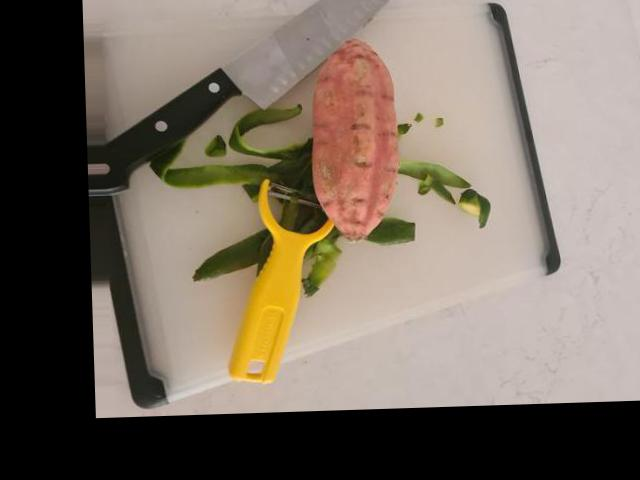sweet_potato: (307, 40, 401, 247)
